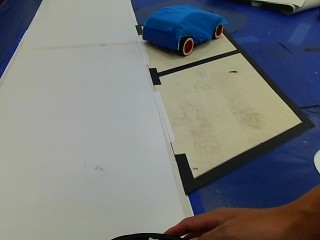car: (141, 8, 225, 57)
